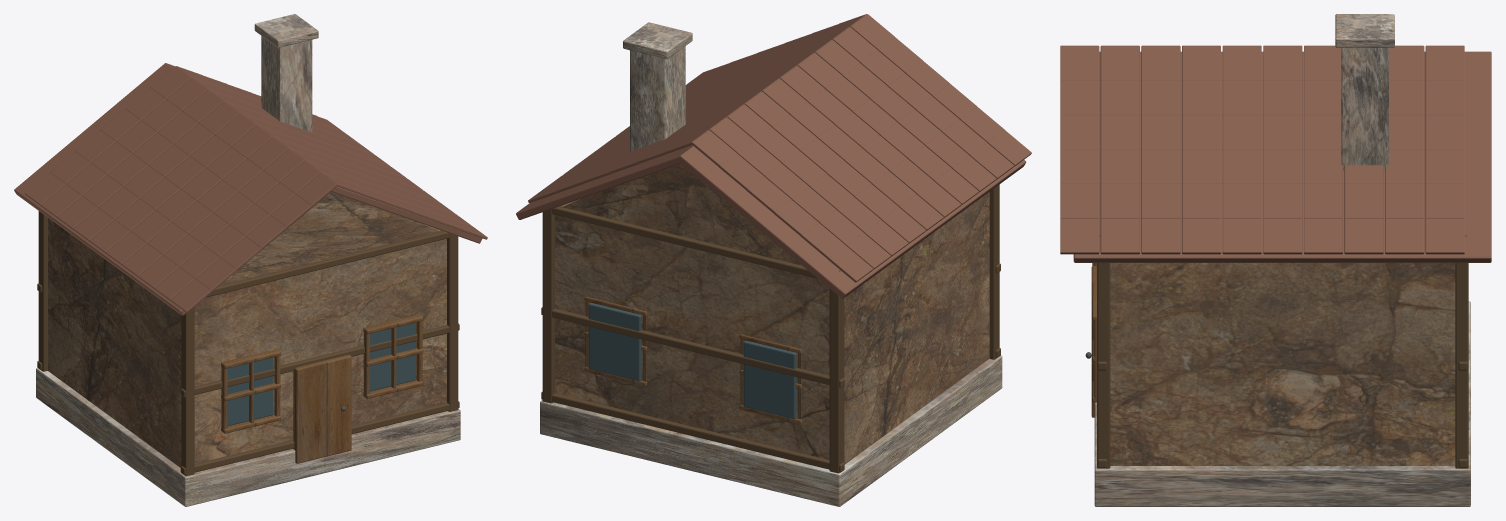
The model's file is house_0.glb.
3 views of the same model, side by side, from view 1: azimuth 30°, elevation 25°; view 2: azimuth 150°, elevation 25°; view 3: azimuth 270°, elevation 25° (orthographic). The views are drawn at different scales.
Parts seen in each view (by area): view 1: plaster walls, roof surface, stone foundation, corner timber, window jamb, window inset; view 2: plaster walls, roof surface, stone foundation, corner timber, window inset, window jamb; view 3: roof surface, plaster walls, stone foundation, corner timber, window jamb.
Part boxes in pixels (bbox=[...]): plaster walls: bbox=[48, 192, 446, 467]; roof surface: bbox=[14, 63, 487, 315]; stone foundation: bbox=[36, 14, 460, 506]; corner timber: bbox=[37, 211, 459, 476]; window jamb: bbox=[221, 314, 423, 463]; window inset: bbox=[227, 322, 415, 425]; plaster walls: bbox=[555, 164, 989, 464]; roof surface: bbox=[516, 14, 1031, 298]; stone foundation: bbox=[540, 22, 1002, 506]; corner timber: bbox=[541, 184, 1000, 473]; window inset: bbox=[588, 302, 796, 418]; window jamb: bbox=[584, 296, 801, 423]; roof surface: bbox=[1060, 45, 1491, 262]; plaster walls: bbox=[1110, 263, 1455, 465]; stone foundation: bbox=[1094, 14, 1470, 506]; corner timber: bbox=[1097, 235, 1468, 468]; window jamb: bbox=[1091, 263, 1096, 417].
Size of the model in its own units: 7.36 by 8.14 by 7.23.
Materials: 7 (3 with a texture image).
